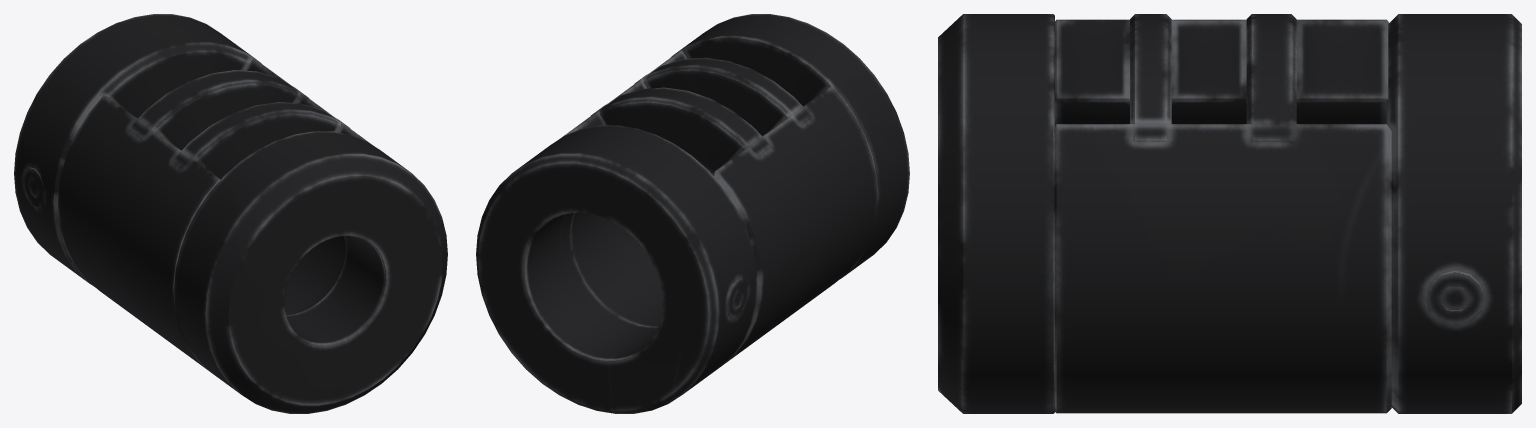
Rendered from Muzzle_PistolComp.fbx.
The picture shows the model from 3 angles, left to right: view 1: azimuth 30°, elevation 25°; view 2: azimuth 150°, elevation 25°; view 3: azimuth 270°, elevation 25°; orthographic projection. The views are drawn at different scales.
Parts seen in each view (by area): view 1: Body; view 2: Body; view 3: Body.
Boxes of the visible parts, left/top/right/bottom form: Body: left=14, top=14, right=447, bottom=413; Body: left=476, top=14, right=909, bottom=413; Body: left=938, top=14, right=1521, bottom=413.
Bounding box in the file's own units: 0.024 × 0.024 × 0.035.
